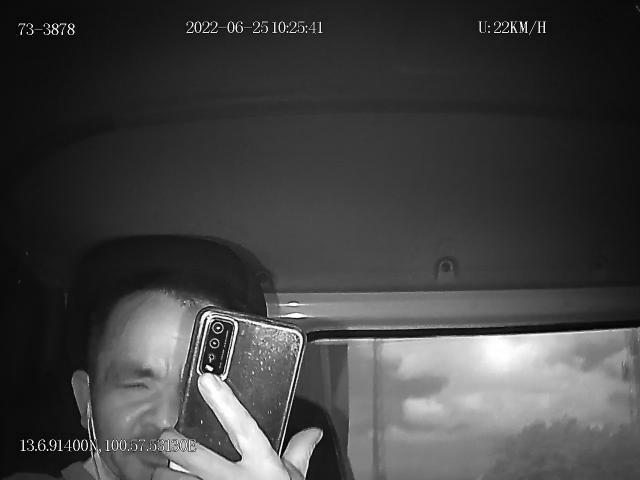PhoneUse: (170, 308, 306, 480)
